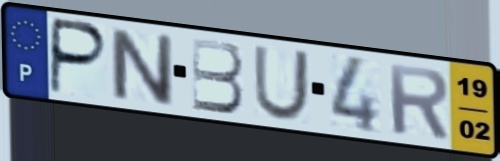4: (327, 53, 385, 136)
B: (188, 35, 247, 116)
N: (106, 25, 177, 109)
P: (47, 15, 111, 97)
R: (385, 60, 452, 141)
U: (251, 44, 312, 124)
